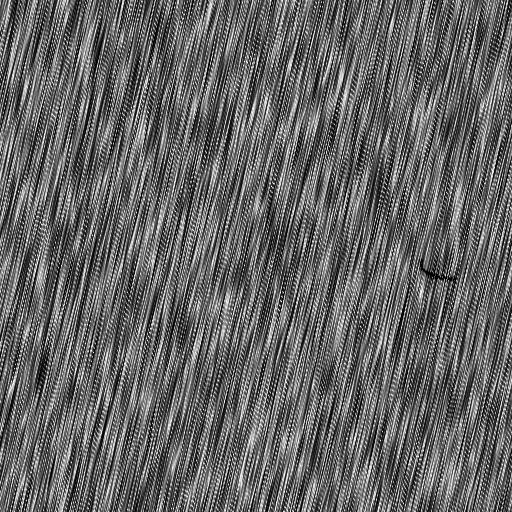scratch: (415, 253, 462, 286)
